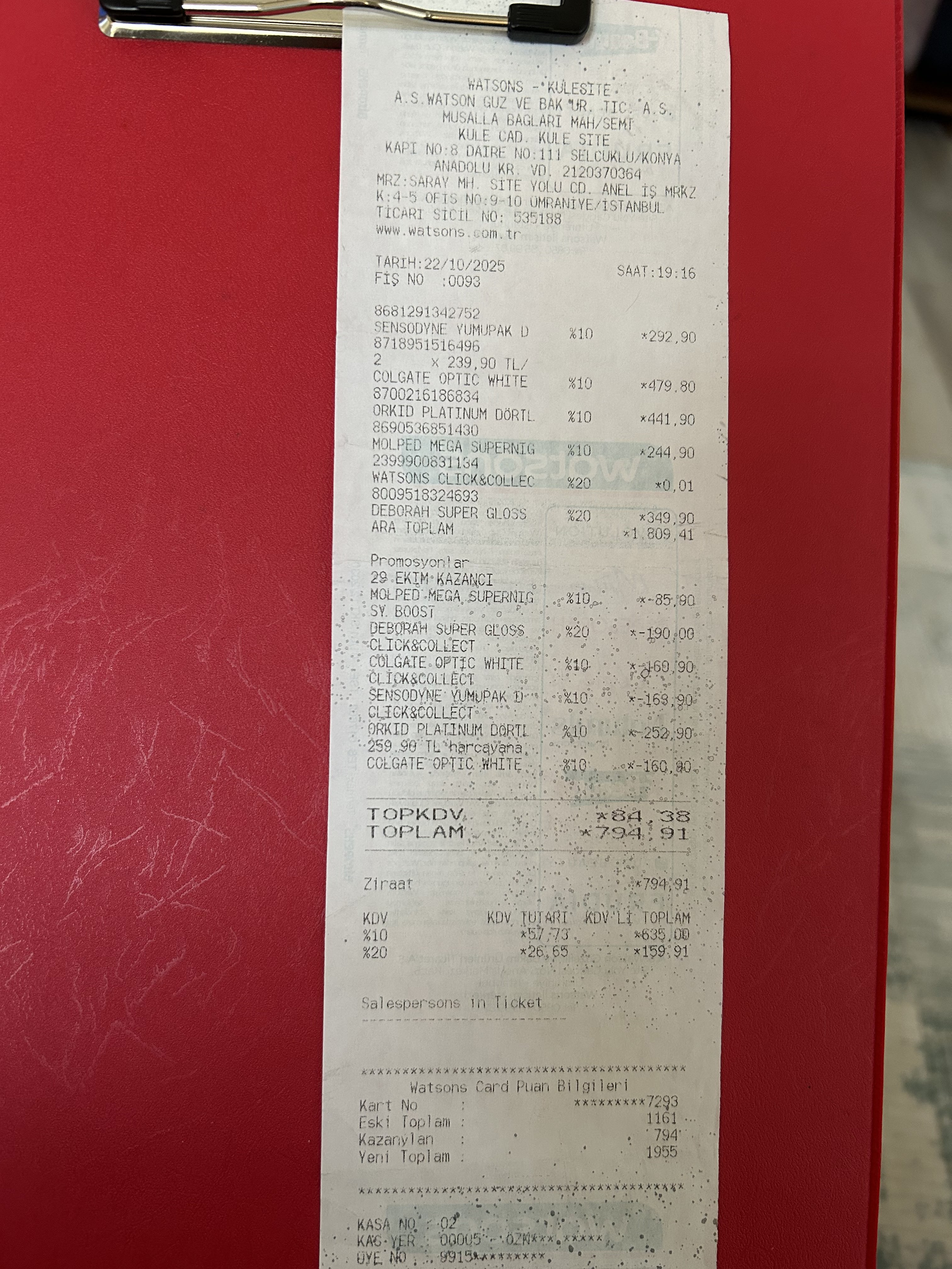date: (591, 822, 700, 849)
price: (421, 255, 509, 274)
workplace: (377, 68, 706, 169)
